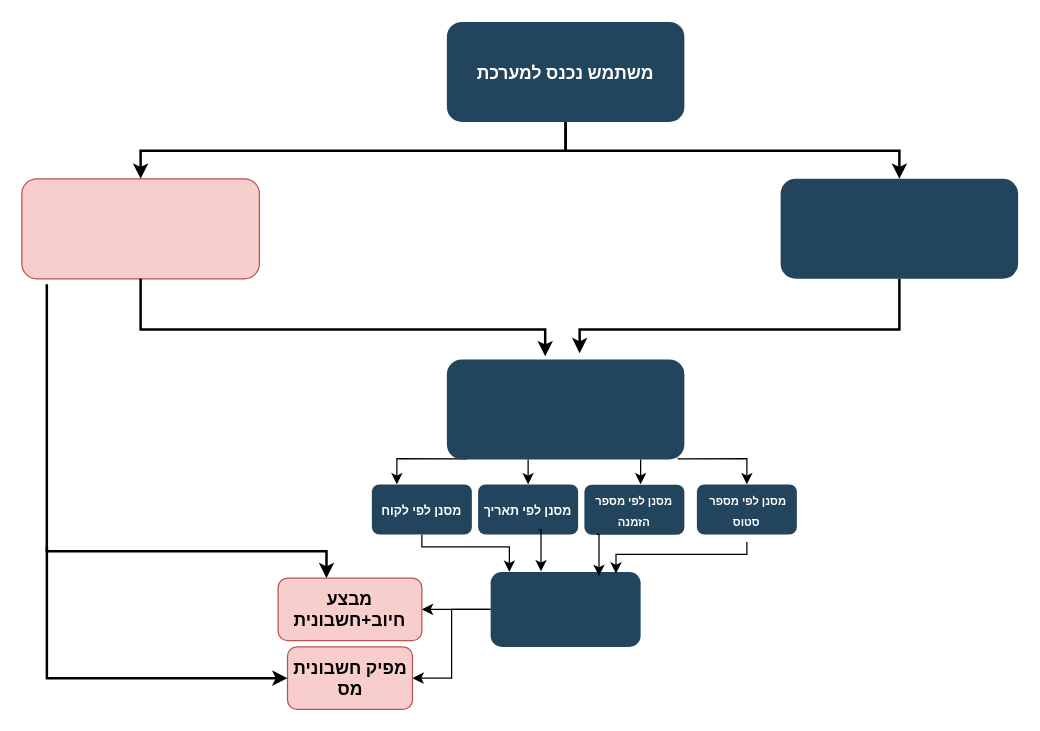
Image size: 1040x731. Some labels were removed from this diagram. Here are the shapes that lost their labels. From the top down, the centre of each, then its label:
At point (140, 228): "מנהל נכנס עם ססמא".
At point (899, 228): "עובד נכנס עם ססמא".
At point (565, 409): "נכנס לכרטיס הזמנה".
At point (565, 608): "בוחר הזמנה".
